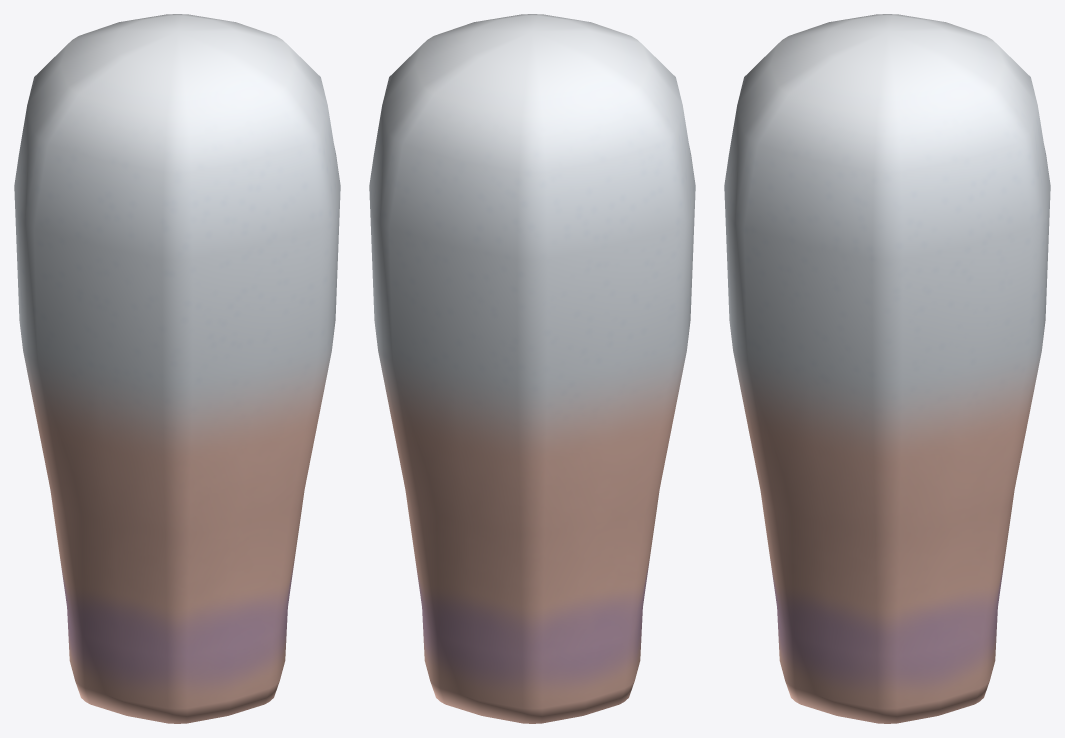
File: Cell_Goblet.fbx
3 renders of one model, left to right at view 1: azimuth 30°, elevation 25°; view 2: azimuth 150°, elevation 25°; view 3: azimuth 270°, elevation 25°, orthographic.
Parts seen in each view (by area): view 1: Cell_Goblet; view 2: Cell_Goblet; view 3: Cell_Goblet.
Boxes of the visible parts, x1,y1,x2,y2 form: Cell_Goblet: (14, 14, 340, 723); Cell_Goblet: (369, 14, 695, 723); Cell_Goblet: (724, 14, 1050, 723).
Size of the model in its own units: 0.7143 by 1.45 by 0.6604.
